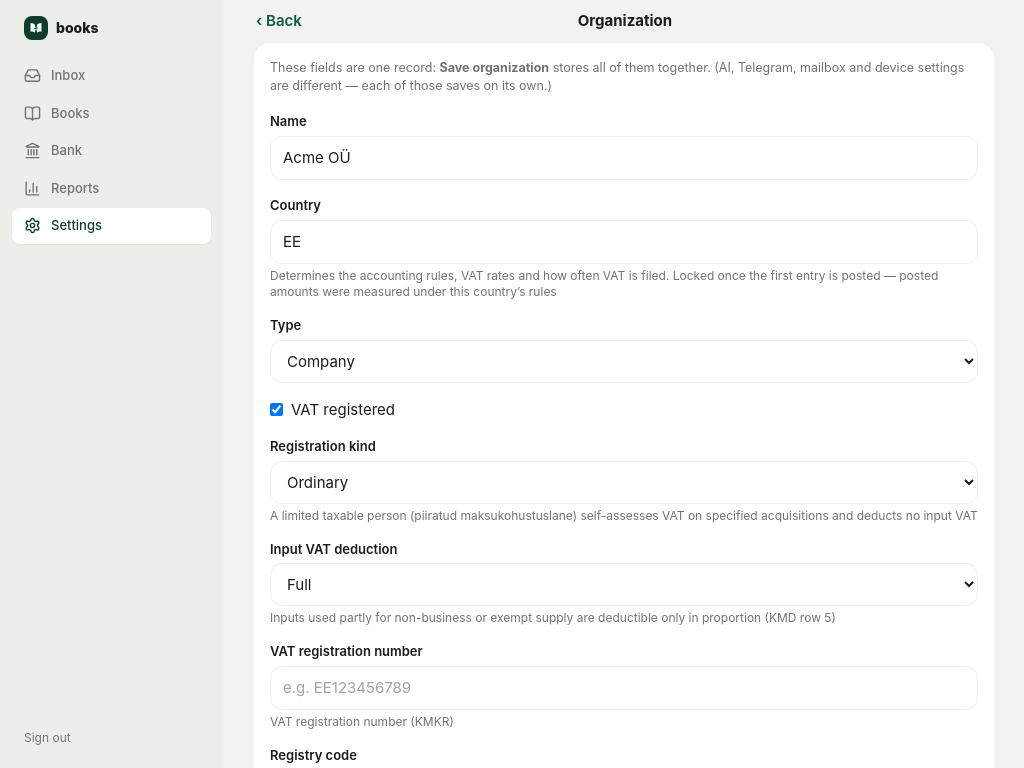
route guard during a blocked-POP restoration (#370) › a refused Back (dirty leave) starts an episode for its target entry
Replace the text in the field labelled "Name" with "Unsaved OÜ" at {"x": 624, "y": 158}, box x1=270 y1=136 x2=978 y2=180
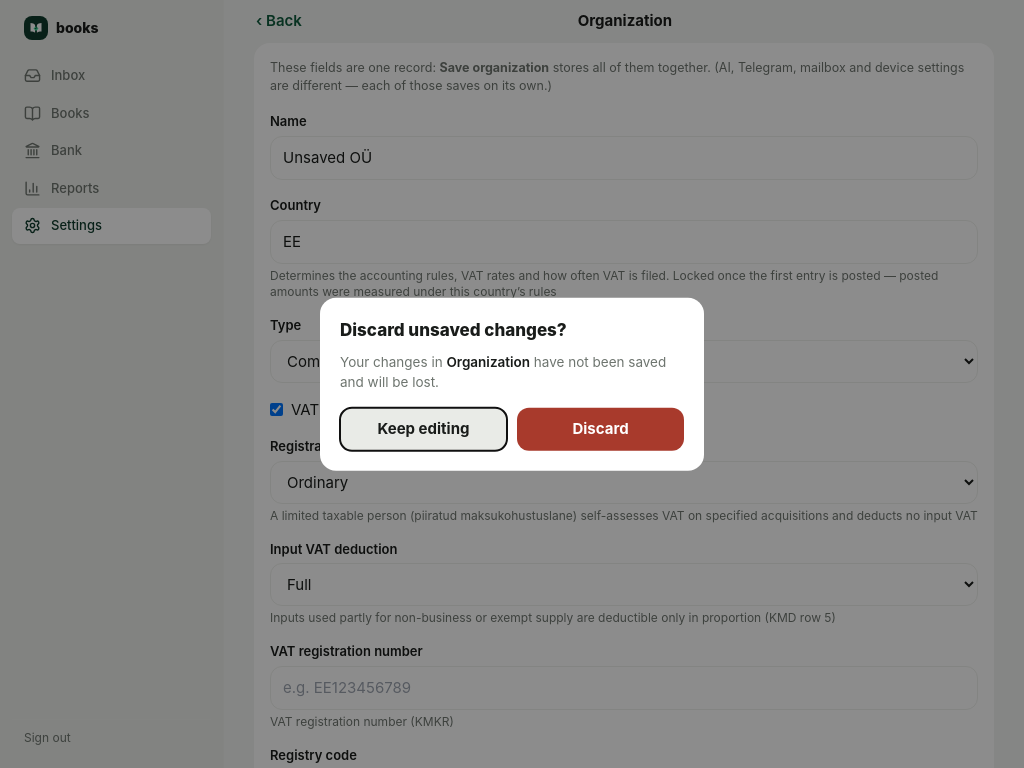
expect the dialog is shown: met, box x1=320 y1=298 x2=704 y2=470
